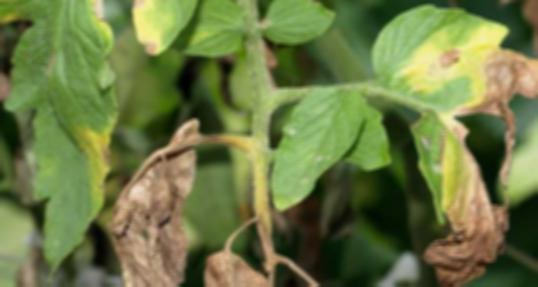Tomato Early blight leaf: (0, 0, 113, 282), (370, 0, 538, 117), (120, 0, 210, 68)
Tomato leaf: (263, 92, 376, 213)
